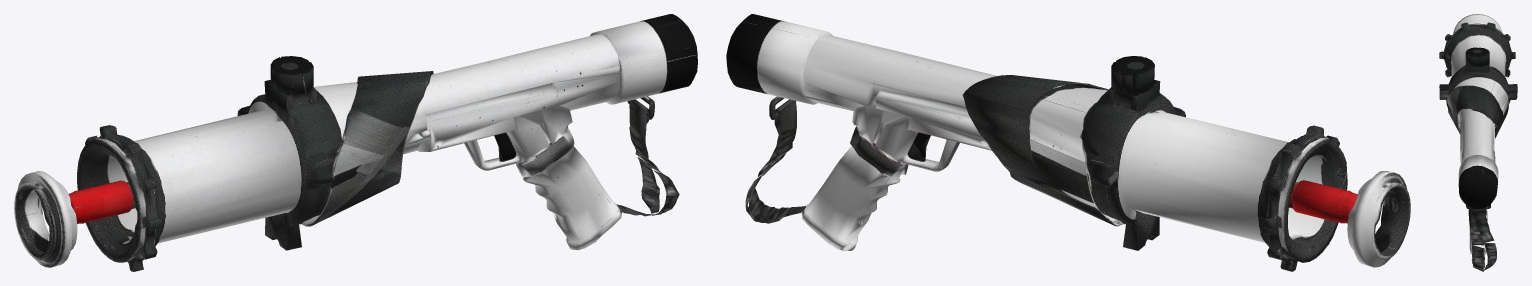
The model's file is wpn_potato_launcher.glb.
3 views of the same model, side by side, from view 1: azimuth 30°, elevation 25°; view 2: azimuth 150°, elevation 25°; view 3: azimuth 270°, elevation 25° (orthographic). The views are drawn at different scales.
Size of the model in its own units: 0.9575 by 0.356 by 0.1924.
Materials: 1 (1 with a texture image).
